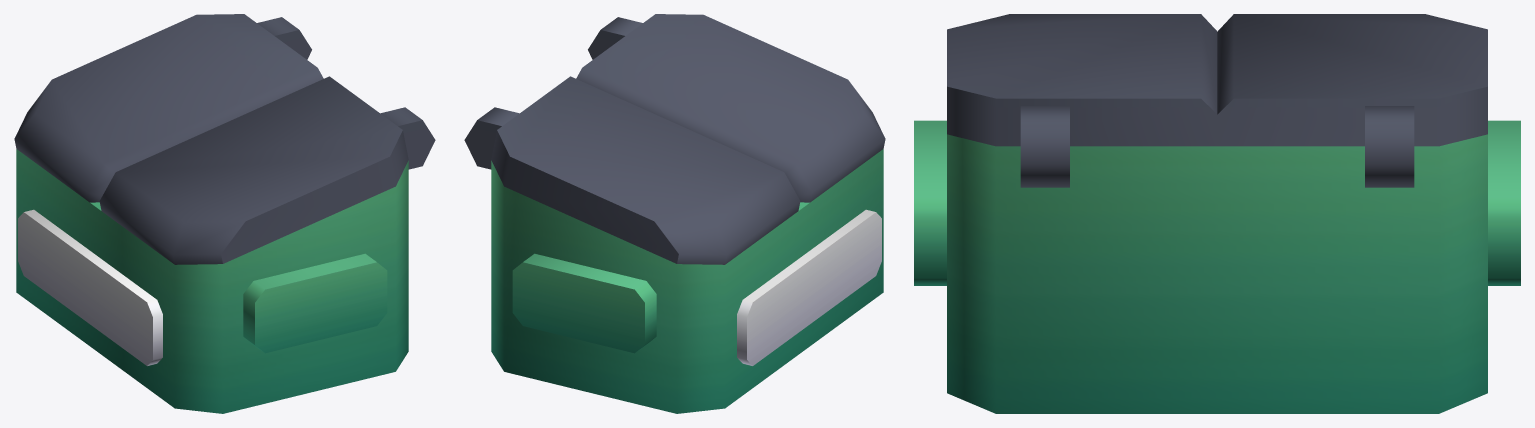
The model's file is dumpster.glb.
The picture shows the model from 3 angles, left to right: view 1: azimuth 30°, elevation 25°; view 2: azimuth 150°, elevation 25°; view 3: azimuth 270°, elevation 25°; orthographic projection. The views are drawn at different scales.
Parts seen in each view (by area): view 1: dumpster; view 2: dumpster; view 3: dumpster.
Boxes of the visible parts, x1=… form: dumpster: x1=14, y1=14, x2=435, y2=413; dumpster: x1=464, y1=14, x2=885, y2=413; dumpster: x1=914, y1=14, x2=1520, y2=413.
Bounding box in the file's own units: 2.2 × 1.68 × 2.96.
Materials: 1 (1 with a texture image).
